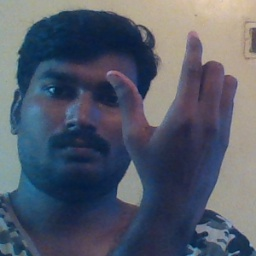U: (110, 19, 241, 180)
